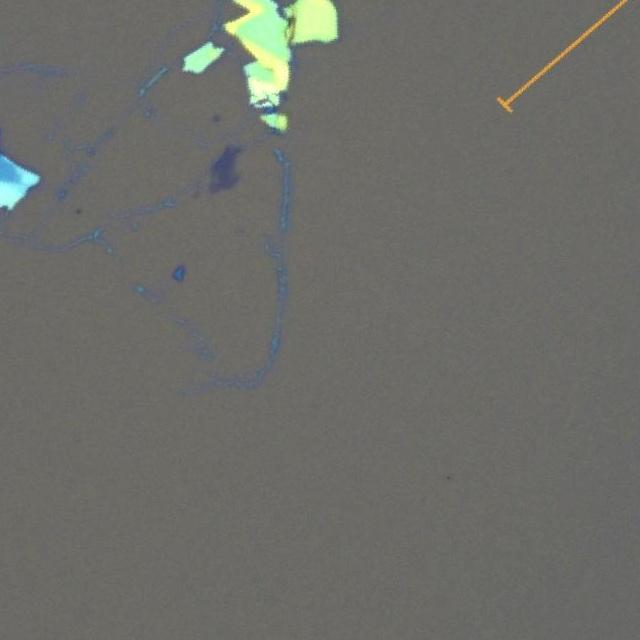monolayer-eWW4: (206, 144, 242, 196)
